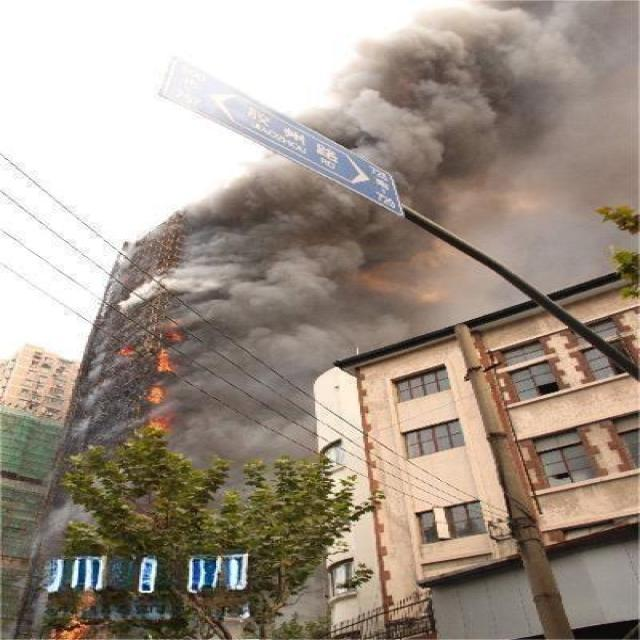Smoke: (166, 169, 366, 449), (304, 0, 640, 138)
